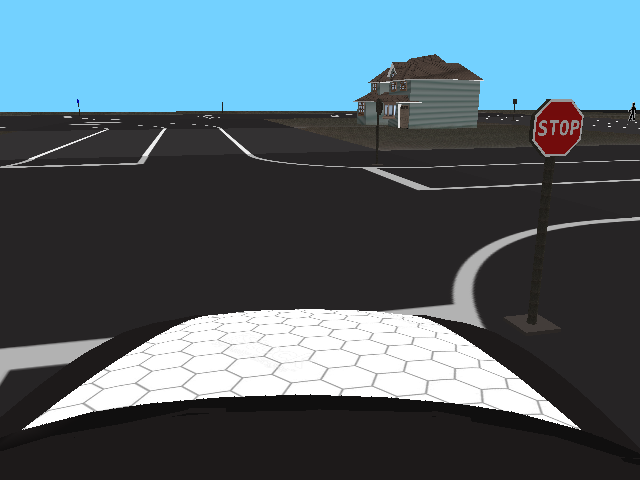stop: (532, 99, 583, 158)
